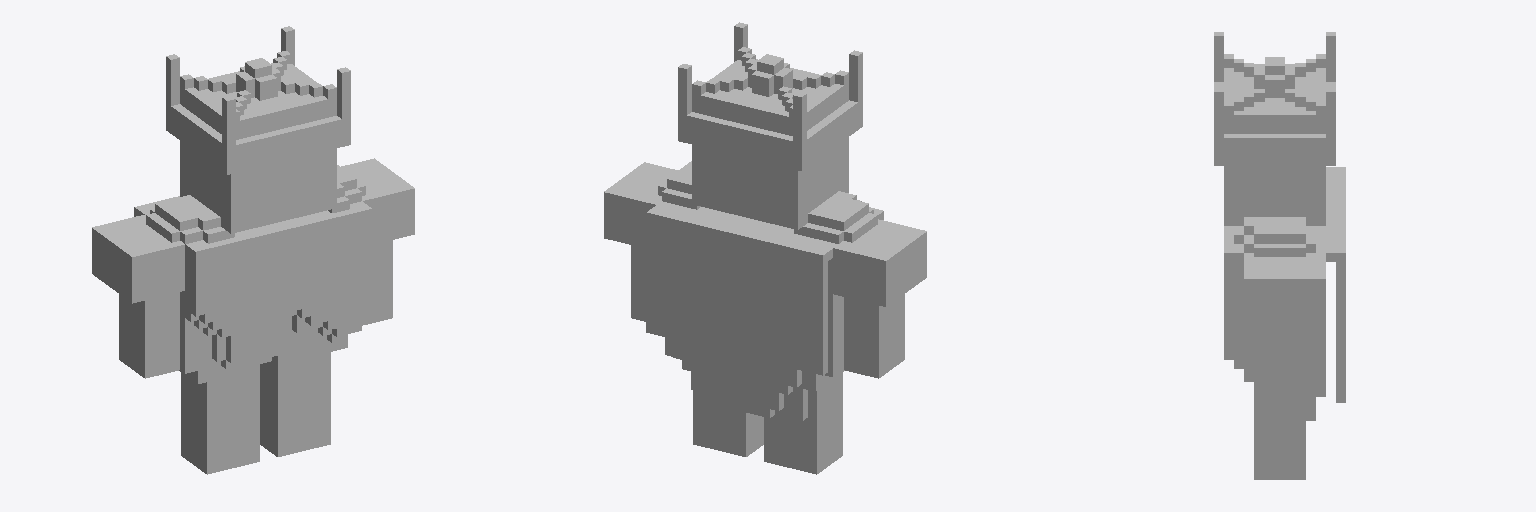
Rendered from KingVox.obj.
The picture shows the model from 3 angles: view 1: azimuth 30°, elevation 25°; view 2: azimuth 150°, elevation 25°; view 3: azimuth 270°, elevation 25°; orthographic projection.
Parts seen in each view (by area): view 1: chr_knight; view 2: chr_knight; view 3: chr_knight.
Boxes of the visible parts, x1=… form: chr_knight: x1=92, y1=26, x2=414, y2=474; chr_knight: x1=604, y1=22, x2=926, y2=474; chr_knight: x1=1214, y1=32, x2=1345, y2=479.
Bounding box in the file's own units: 3.2 × 4.2 × 1.3.